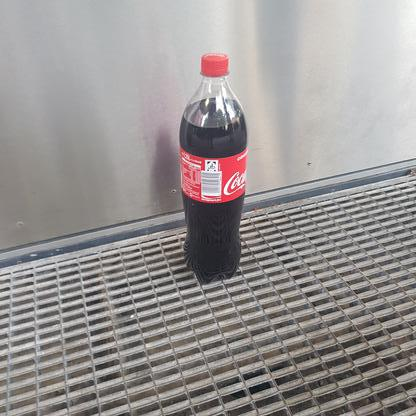coca-cola: (177, 51, 248, 285)
